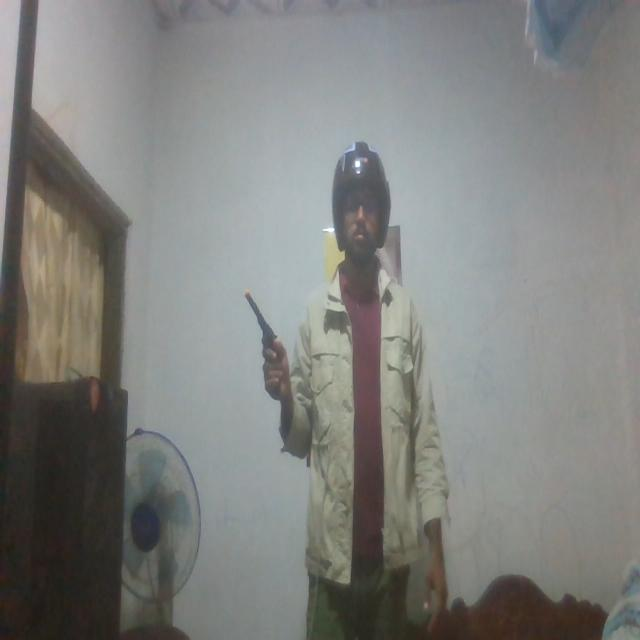Gun_Holder: (245, 288, 287, 410)
Helmet_Wearer: (330, 139, 396, 280)
Jacket_Wearer: (278, 271, 454, 573)
Person: (262, 140, 450, 640)
